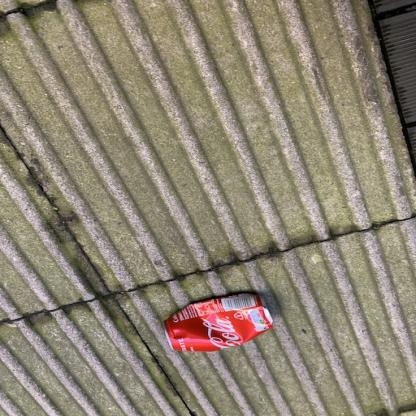trash: (164, 293, 272, 351)
